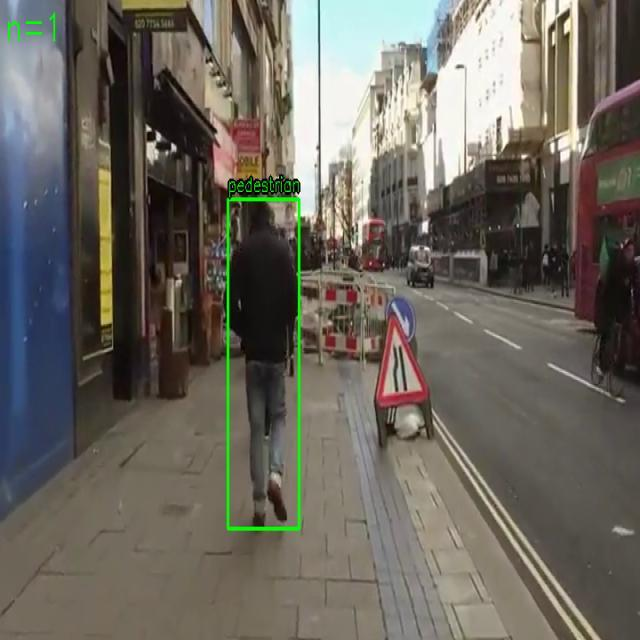with scooter: (228, 198, 300, 530)
